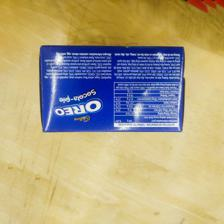Oreo: (37, 44, 186, 134)
